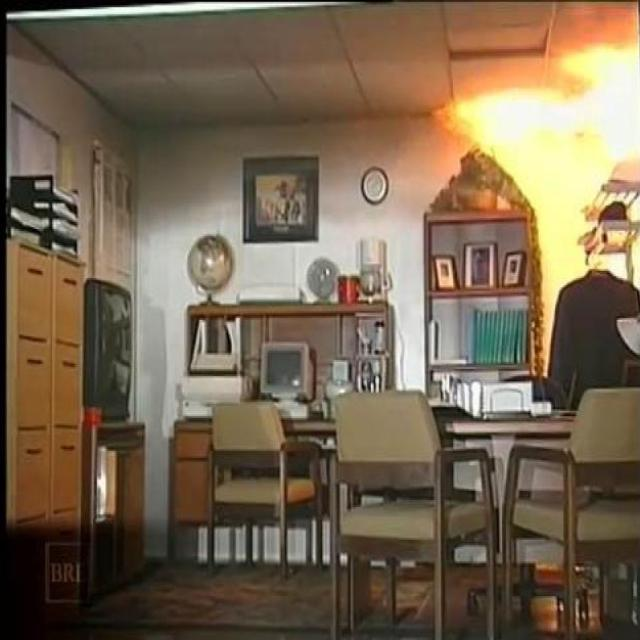smoke: (430, 40, 640, 222)
